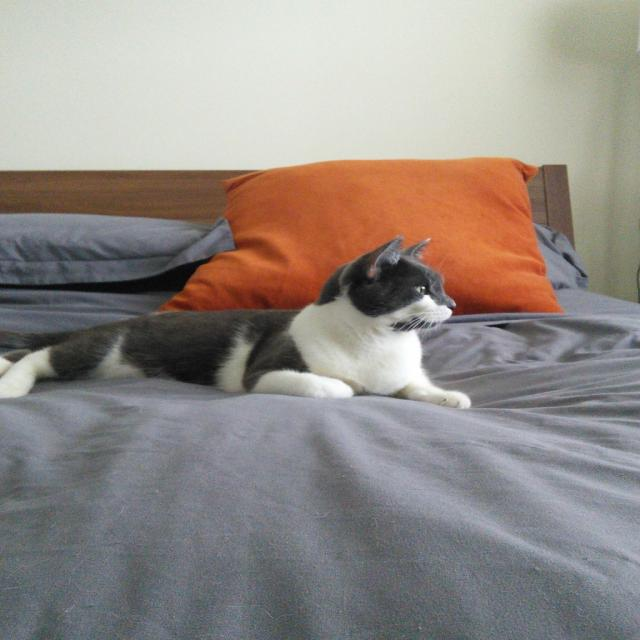Cat: (0, 233, 472, 407)
